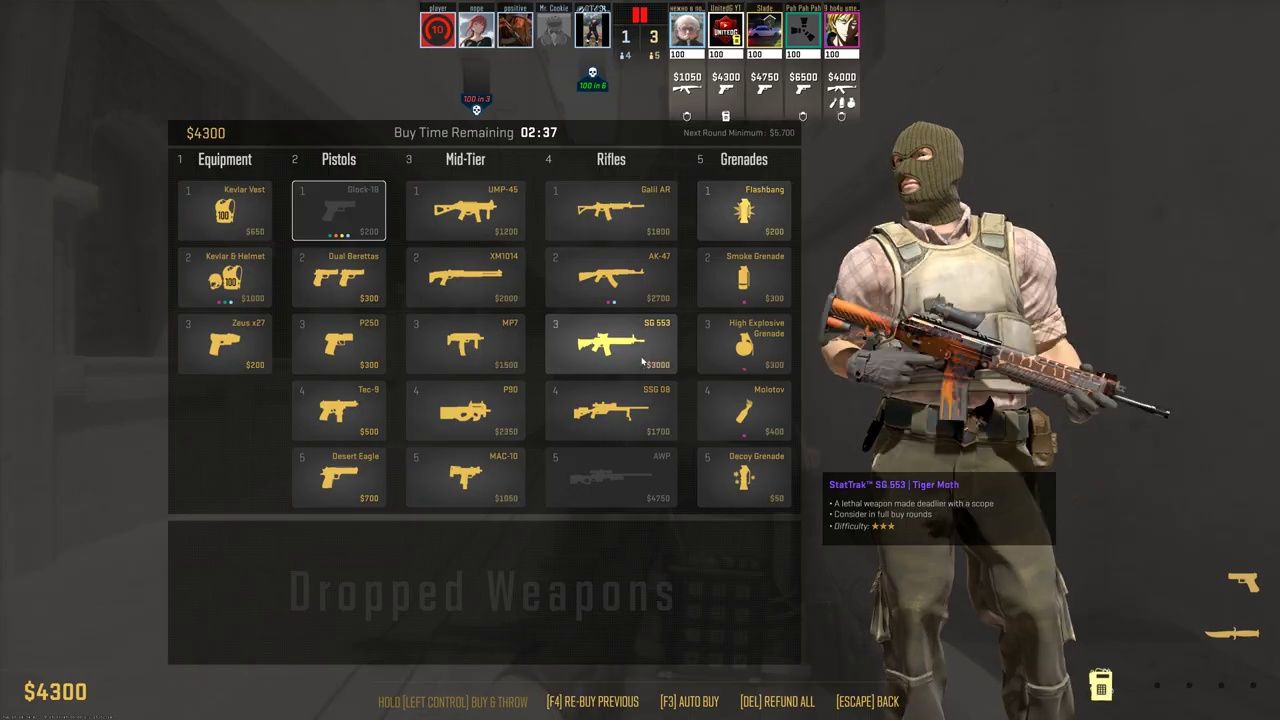Terrorist: (845, 121, 1080, 712)
